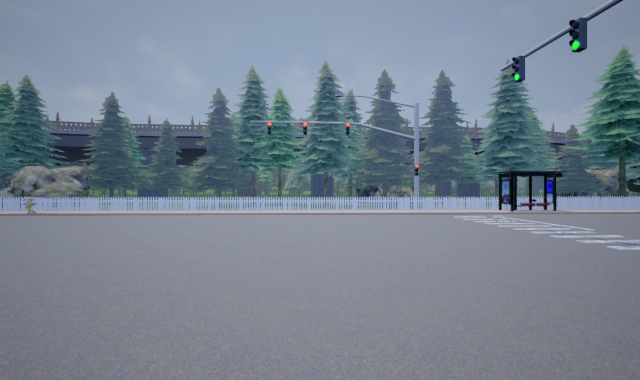pedestrian: (19, 191, 40, 213)
